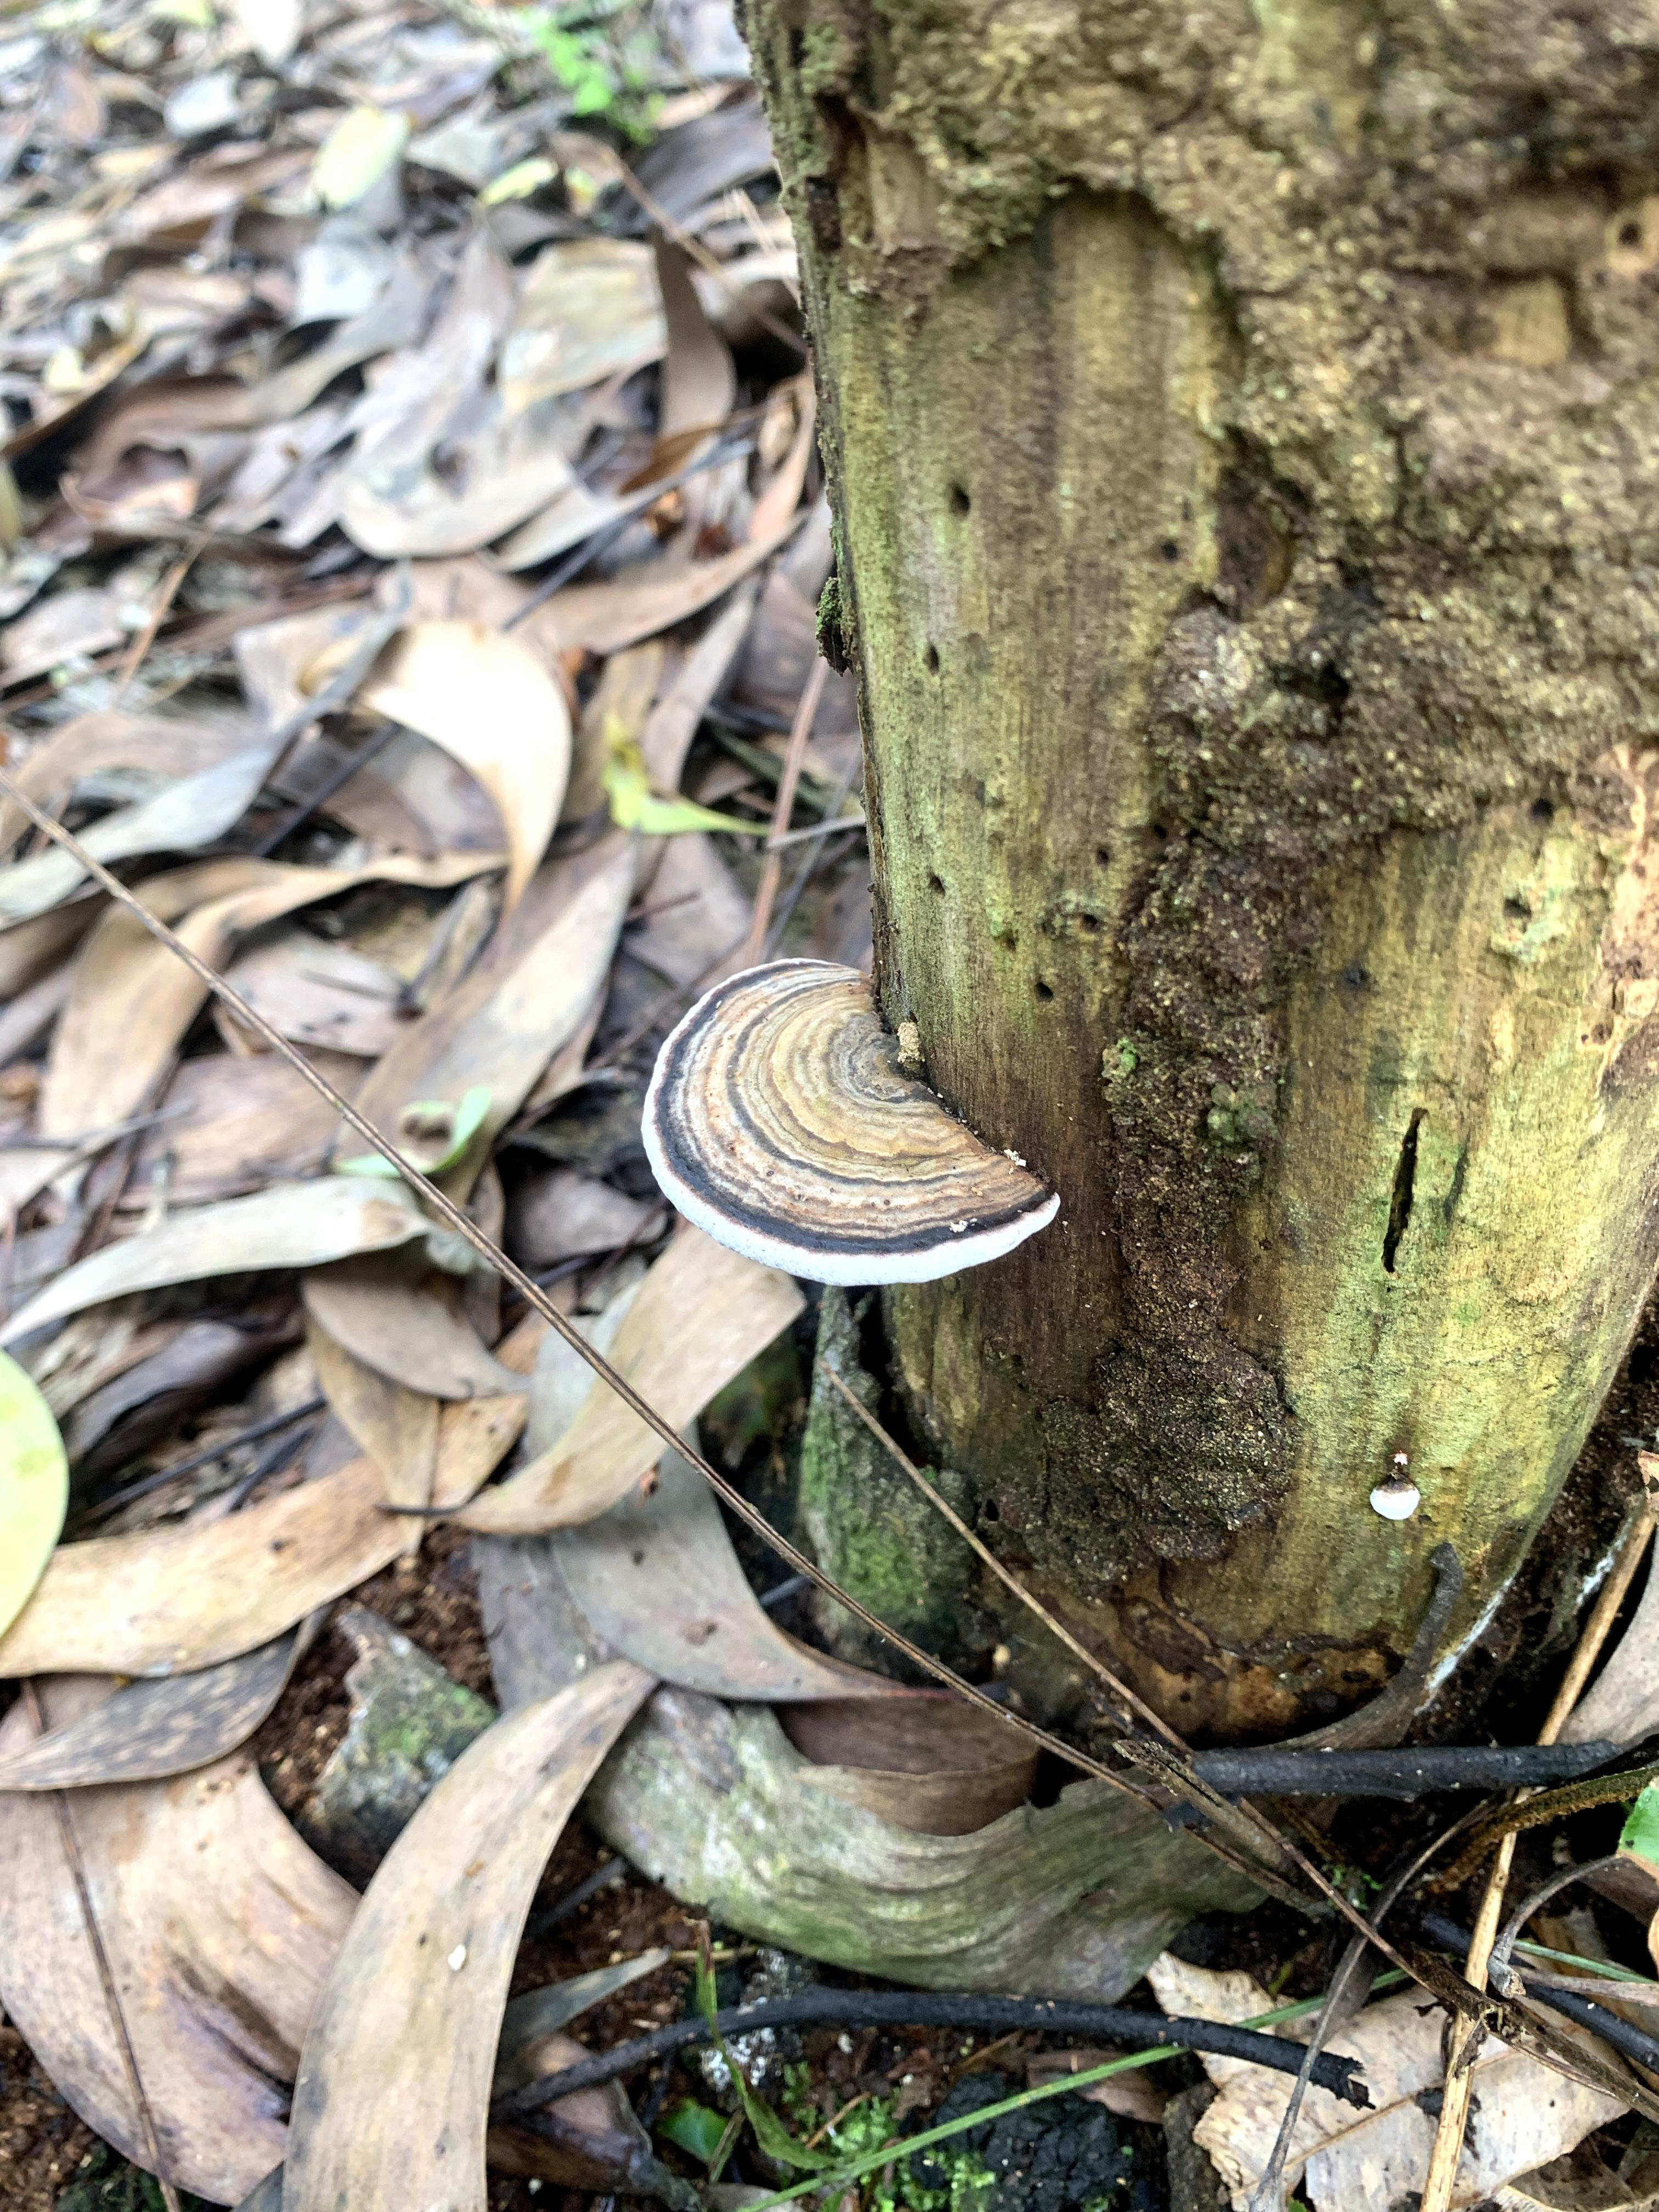Ganoderma - Fruit Body: (626, 900, 1087, 1306)
